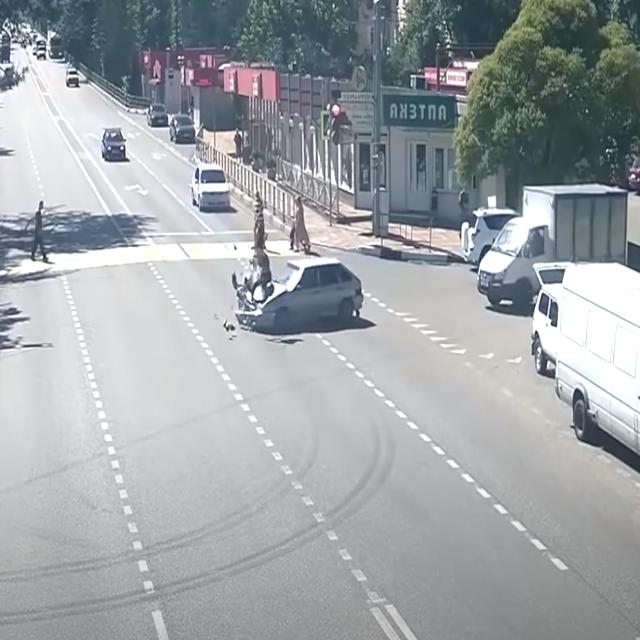accident: (223, 244, 365, 346)
non-accident: (460, 181, 628, 311), (147, 102, 196, 144), (33, 39, 47, 59)
